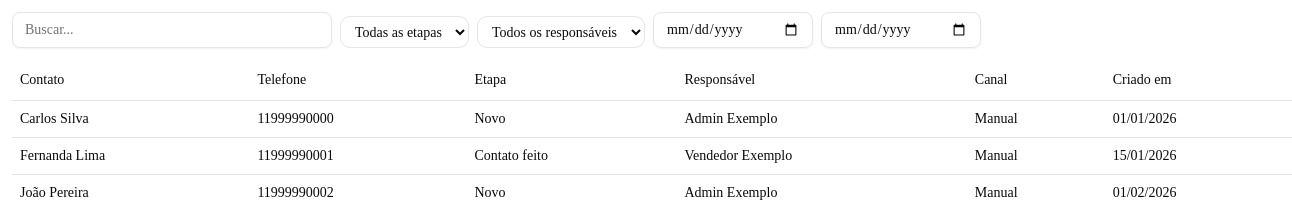
LeadTable › filtro de etapa restringe as linhas exibidas
The image size is (1292, 217).
Step 1. Select "Contato feito" in the dropdown named "Etapa" → x=404, y=32, box [340,16,469,48]
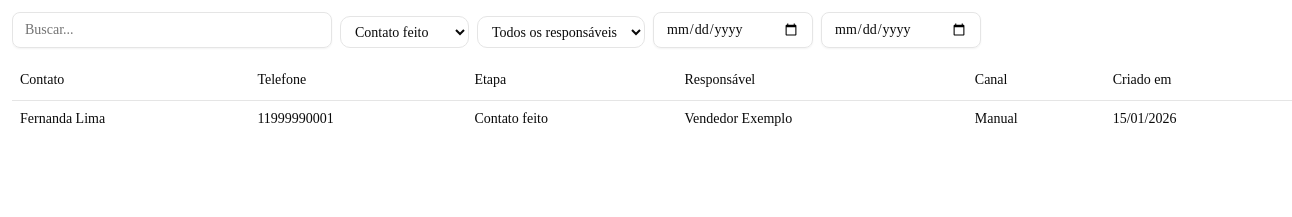
expect the link "Carlos Silva" is gone: met
expect the link "Fernanda Lima" is shown: met, box [20,108,105,128]
expect the link "João Pereira" is gone: met
